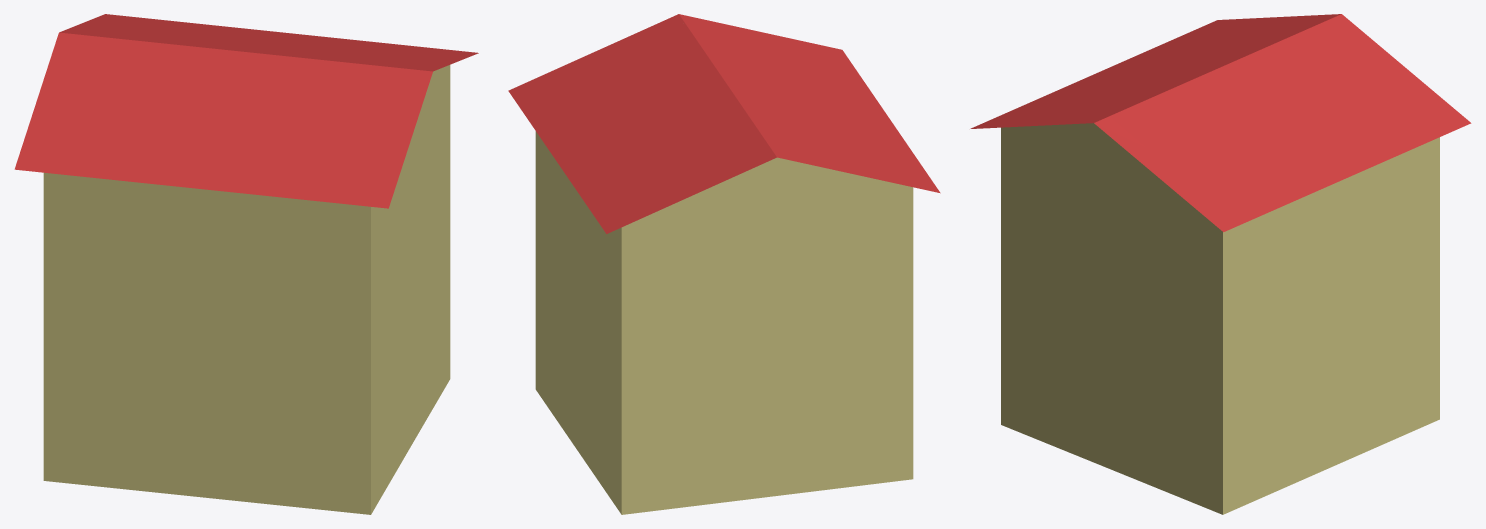
3 views of the same model, side by side, from view 1: azimuth 30°, elevation 25°; view 2: azimuth 150°, elevation 25°; view 3: azimuth 270°, elevation 25° (orthographic). The views are drawn at different scales.
Parts seen in each view (by area): view 1: group_5, group_3; view 2: group_5, group_3, group_4; view 3: group_5, group_3, group_4.
Boxes of the visible parts, x1,y1,x2,y2 form: group_5: (43,65,450,514); group_3: (14,14,478,208); group_5: (535,131,913,514); group_3: (508,14,940,233); group_4: (636,14,776,168); group_5: (1001,123,1439,514); group_3: (970,14,1471,232); group_4: (1094,14,1359,147).
Size of the model in its own units: 16.77 by 16.77 by 12.99.
